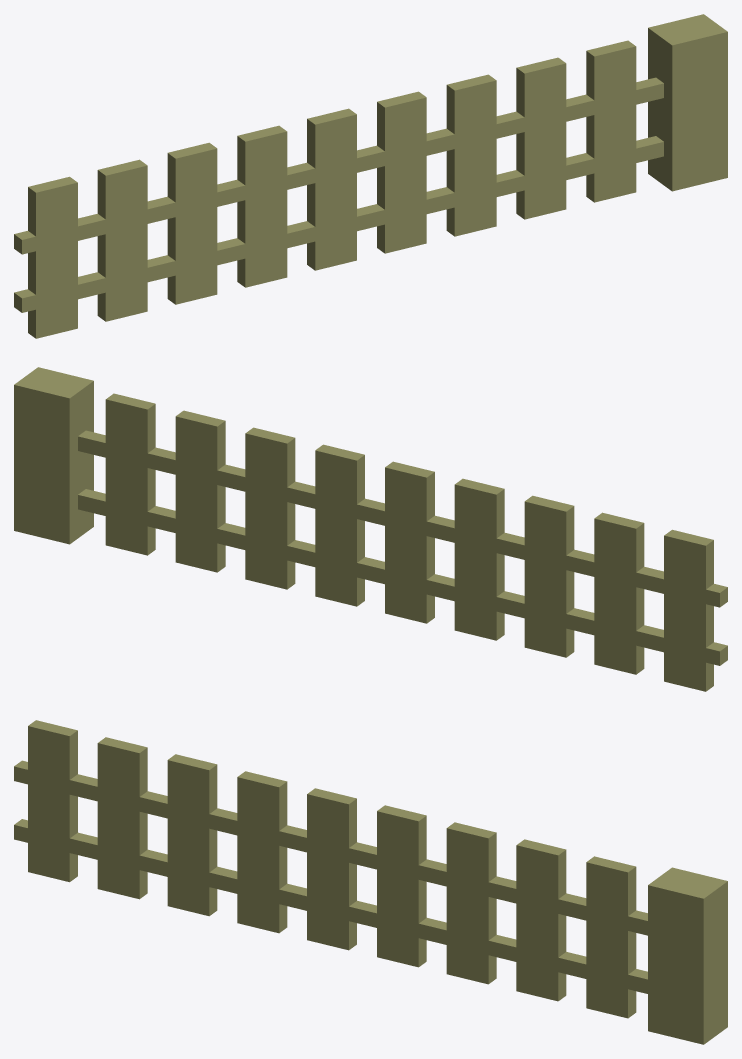
The model's file is fence_long_50.dae.
3 views of the same model, one above another, from view 1: azimuth 30°, elevation 25°; view 2: azimuth 150°, elevation 25°; view 3: azimuth 330°, elevation 25° (orthographic).
Visible parts, largest first — view 1: fence_long_50; view 2: fence_long_50; view 3: fence_long_50.
Part boxes in pixels (<box>): fence_long_50: <box>14,14,727,338</box>; fence_long_50: <box>14,367,727,691</box>; fence_long_50: <box>14,720,727,1044</box>.
Size of the model in its own units: 5 by 0.3 by 1.
1 material, 1 textured.
